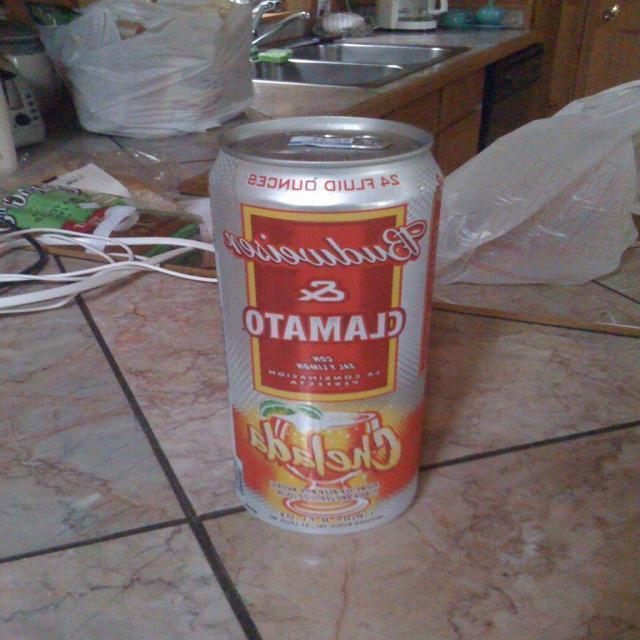metal: (204, 112, 448, 538)
